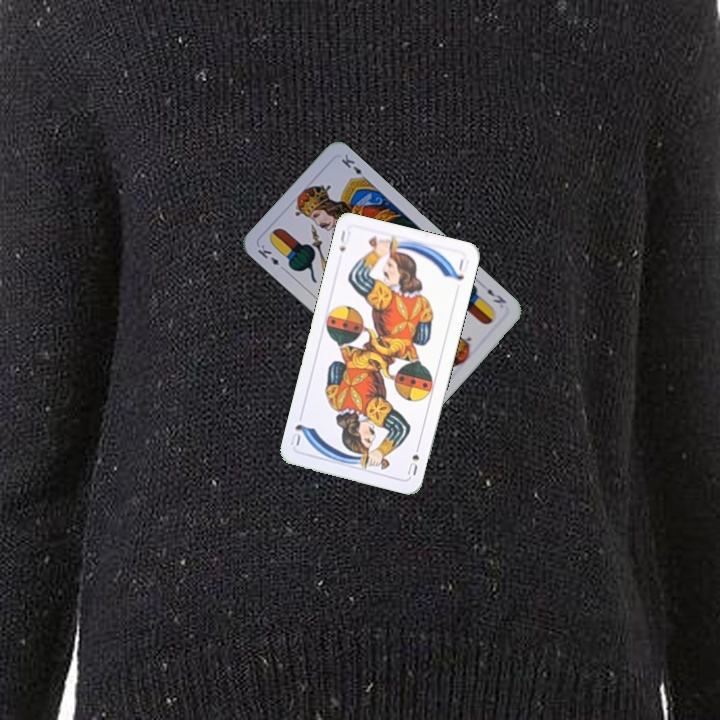EK: (254, 240, 288, 273), (483, 284, 509, 306)
SU: (403, 439, 423, 478), (335, 226, 351, 254)
